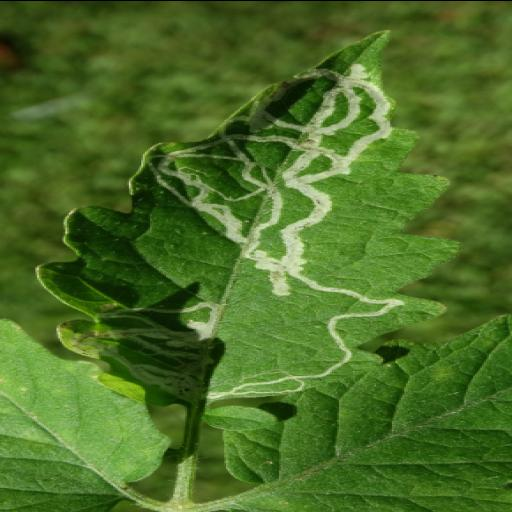Leaf Miner: (30, 26, 462, 410)
